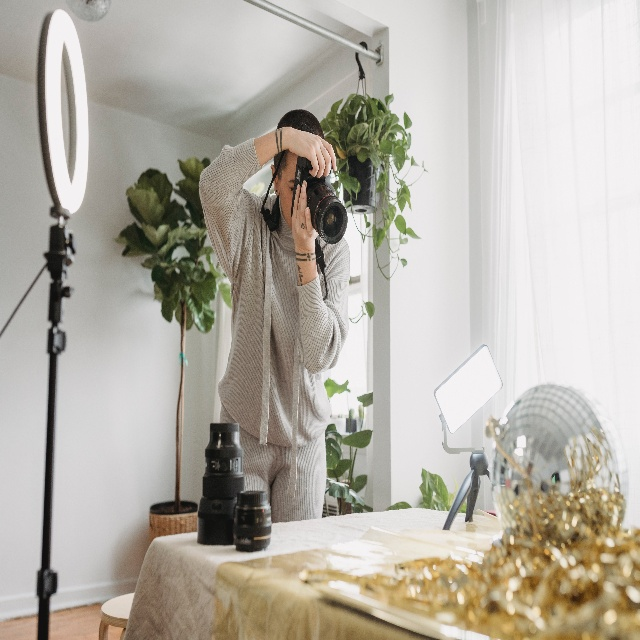Sin_guantes: (288, 127, 337, 178), (291, 179, 319, 248)
